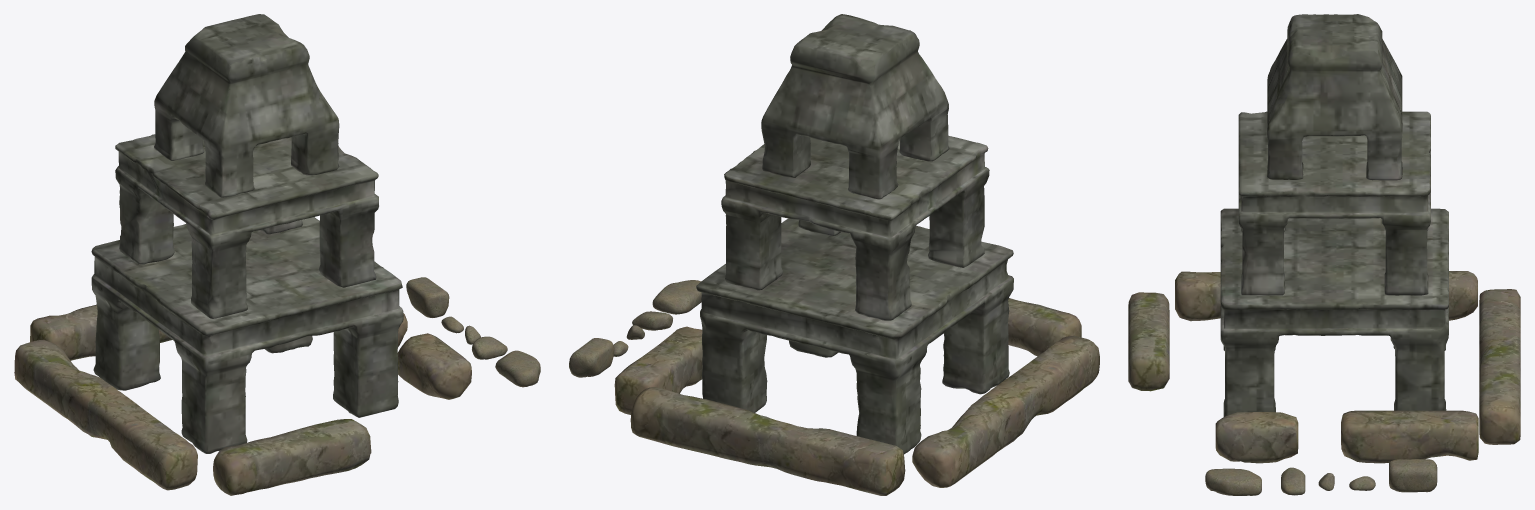
Rendered from old_ruined_temple.glb.
3 renders of one model, left to right at view 1: azimuth 30°, elevation 25°; view 2: azimuth 150°, elevation 25°; view 3: azimuth 270°, elevation 25°, orthographic. The views are drawn at different scales.
Parts seen in each view (by area): view 1: defaultMaterial (×3); view 2: defaultMaterial (×3); view 3: defaultMaterial (×3).
Part boxes in pixels (bbox=[...]): defaultMaterial (×3): bbox=[14, 14, 540, 495]; defaultMaterial (×3): bbox=[569, 14, 1099, 495]; defaultMaterial (×3): bbox=[1128, 14, 1520, 495].
Size of the model in its own units: 2 by 1.7 by 1.71.
3 materials, 3 textured.
